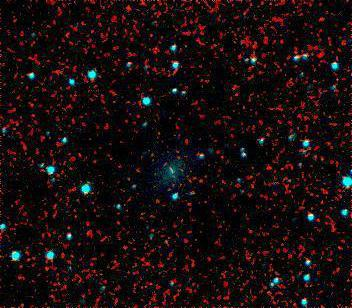star: (153, 161, 183, 191)
